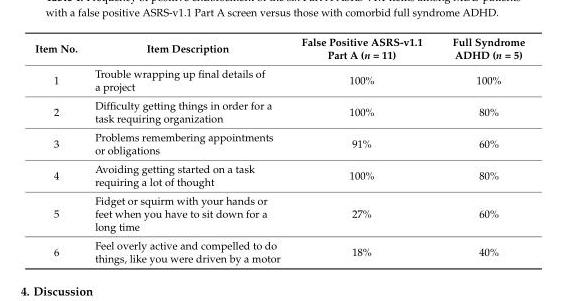table: (34, 35, 524, 264)
table column: (85, 35, 290, 264), (290, 35, 436, 264), (436, 35, 524, 264), (34, 35, 85, 264)
table column header: (34, 35, 524, 64)
table row: (34, 190, 524, 235), (34, 95, 524, 127), (34, 127, 524, 159), (34, 64, 524, 95), (34, 159, 524, 190), (34, 35, 524, 64), (34, 235, 524, 264)
